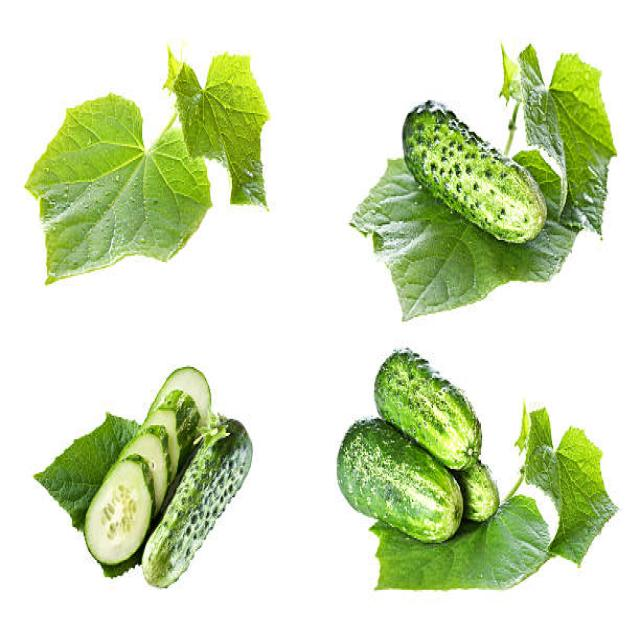cucumber: (337, 345, 499, 545), (403, 98, 544, 244), (141, 413, 253, 591)
